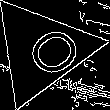O_SW: (6, 18, 78, 83)
